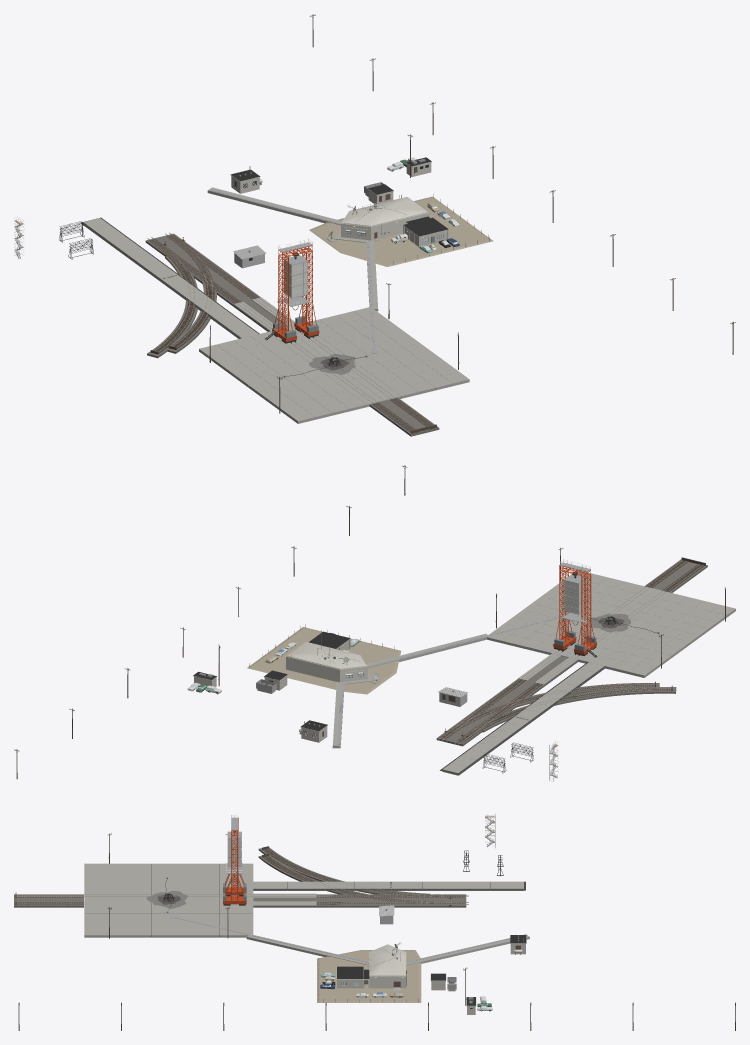
3 views of the same model, one above another, from view 1: azimuth 30°, elevation 25°; view 2: azimuth 150°, elevation 25°; view 3: azimuth 270°, elevation 25° (orthographic). The views are drawn at different scales.
Parts seen in each view (by area): view 1: Pad6_Concrete, Track_Ballast, Blockhouse_Shell, Track_Tie, Road_Concrete, Pad6Gantry_Red, Track_Rail, Blockhouse_BunkerRoof, CableTrenches_ConcreteTrench, Track_BallastSpur, Blockhouse_Bunker, Road_Joint (+2 smaller); view 2: Pad6_Concrete, Track_Ballast, Blockhouse_Shell, Track_Tie, Road_Concrete, Track_Rail, Pad6Gantry_Red, Track_BallastSpur, Blockhouse_Bunker, Blockhouse_BunkerRoof, CableTrenches_ConcreteTrench, Road_Joint (+2 smaller); view 3: Pad6_Concrete, Track_Ballast, Blockhouse_Shell, Road_Concrete, Track_Rail, Track_Tie, Track_BallastSpur, CableTrenches_ConcreteTrench, Blockhouse_BunkerRoof, Pad6Gantry_Red, Track_Concrete, Road_Joint (+5 smaller).
Part boxes in pixels (bbox=[...]): Pad6_Concrete: bbox=[199, 307, 469, 423]; Track_Ballast: bbox=[145, 233, 439, 436]; Blockhouse_Shell: bbox=[309, 196, 493, 266]; Track_Tie: bbox=[148, 234, 437, 433]; Road_Concrete: bbox=[83, 218, 258, 337]; Pad6Gantry_Red: bbox=[272, 245, 319, 341]; Track_Rail: bbox=[147, 232, 432, 430]; Blockhouse_BunkerRoof: bbox=[342, 197, 427, 225]; CableTrenches_ConcreteTrench: bbox=[207, 187, 378, 311]; Track_BallastSpur: bbox=[147, 256, 216, 358]; Blockhouse_Bunker: bbox=[341, 197, 429, 240]; Road_Joint: bbox=[80, 217, 259, 338]; Pad6_Concrete: bbox=[486, 570, 735, 677]; Track_Ballast: bbox=[436, 559, 707, 746]; Blockhouse_Shell: bbox=[247, 627, 401, 694]; Track_Tie: bbox=[439, 557, 705, 743]; Road_Concrete: bbox=[442, 662, 604, 775]; Track_Rail: bbox=[438, 560, 703, 744]; Pad6Gantry_Red: bbox=[553, 565, 596, 654]; Track_BallastSpur: bbox=[482, 683, 676, 732]; Blockhouse_Bunker: bbox=[286, 642, 367, 682]; Blockhouse_BunkerRoof: bbox=[288, 642, 366, 668]; CableTrenches_ConcreteTrench: bbox=[332, 633, 487, 748]; Road_Joint: bbox=[440, 662, 606, 775]; Pad6_Concrete: bbox=[84, 863, 253, 937]; Track_Ballast: bbox=[14, 894, 466, 907]; Blockhouse_Shell: bbox=[317, 950, 421, 1002]; Road_Concrete: bbox=[253, 881, 523, 890]; Track_Rail: bbox=[16, 848, 468, 904]; Track_Tie: bbox=[14, 846, 464, 906]; Track_BallastSpur: bbox=[258, 847, 430, 894]; CableTrenches_ConcreteTrench: bbox=[246, 934, 529, 965]; Blockhouse_BunkerRoof: bbox=[370, 944, 405, 975]; Pad6Gantry_Red: bbox=[223, 818, 246, 904]; Track_Concrete: bbox=[253, 893, 316, 905]; Road_Joint: bbox=[253, 881, 525, 890].
Size of the model in its own units: 157 by 34.17 by 260.
